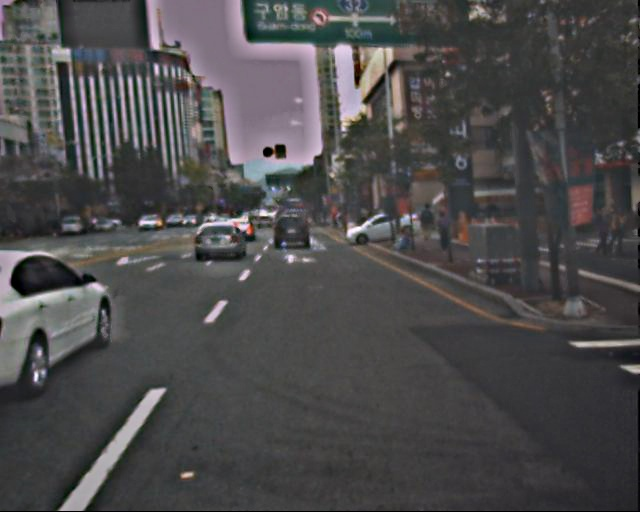person: (590, 206, 624, 261), (434, 208, 453, 254), (420, 203, 437, 244)
